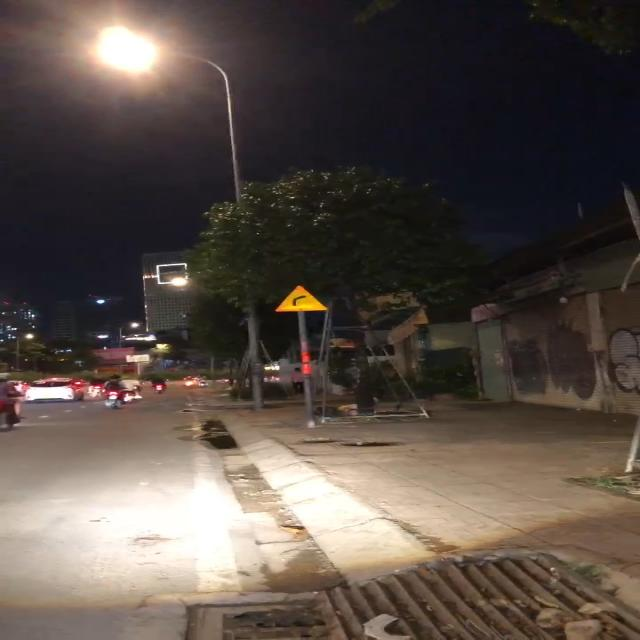Bien bao cho ngoat nguy hiem: (271, 281, 335, 314)
